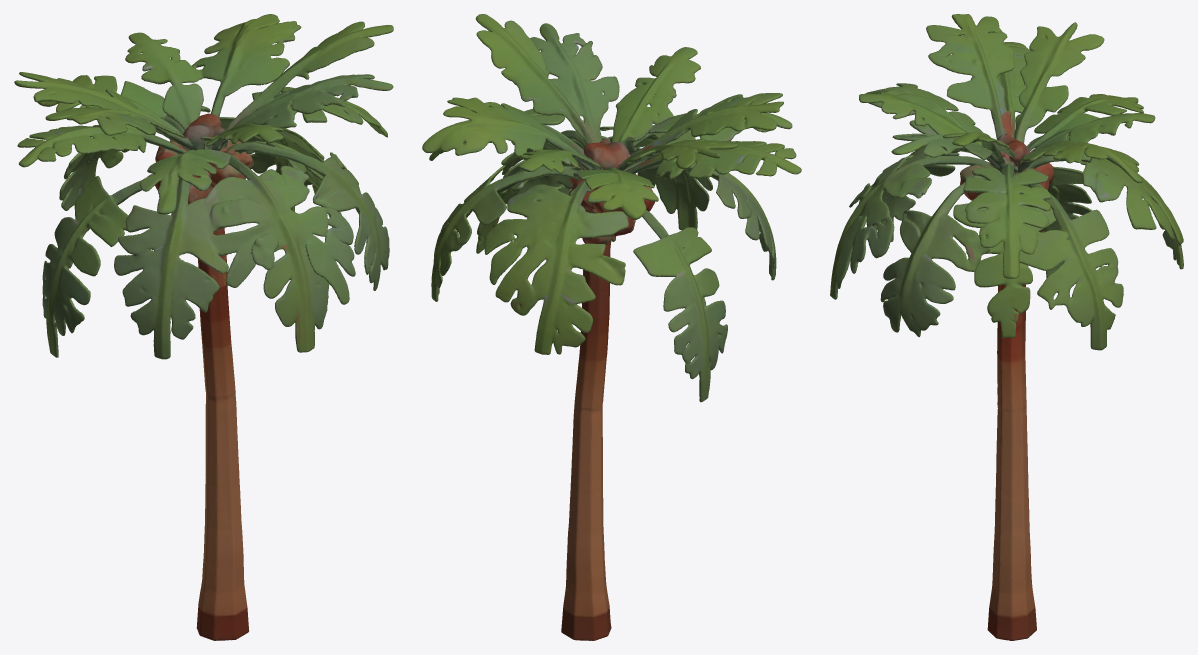
The model's file is palm_tree.glb.
The picture shows the model from 3 angles, left to right: view 1: azimuth 30°, elevation 25°; view 2: azimuth 150°, elevation 25°; view 3: azimuth 270°, elevation 25°; orthographic projection. The views are drawn at different scales.
Parts seen in each view (by area): view 1: tripo_node_143f79d0-f857-458f-b0a4-f7ca64f4427b; view 2: tripo_node_143f79d0-f857-458f-b0a4-f7ca64f4427b; view 3: tripo_node_143f79d0-f857-458f-b0a4-f7ca64f4427b.
Part boxes in pixels (x1,y1,x2,y2): tripo_node_143f79d0-f857-458f-b0a4-f7ca64f4427b: [14, 14, 393, 640]; tripo_node_143f79d0-f857-458f-b0a4-f7ca64f4427b: [422, 14, 801, 640]; tripo_node_143f79d0-f857-458f-b0a4-f7ca64f4427b: [830, 14, 1183, 640].
Bounding box in the file's own units: 0.6682 × 1 × 0.5807.
1 material, 1 textured.
